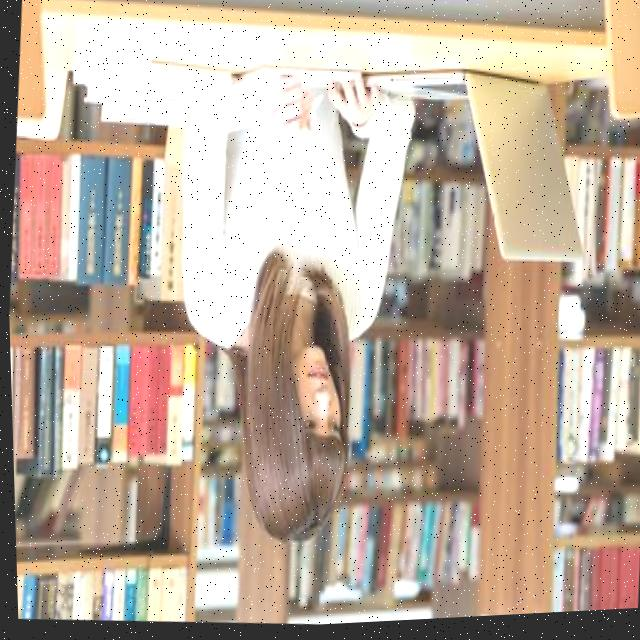studying-person: (25, 21, 610, 594)
